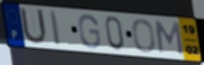0: (105, 16, 126, 52)
G: (77, 13, 102, 50)
I: (49, 10, 63, 48)
M: (153, 20, 185, 57)
O: (131, 18, 157, 54)
U: (18, 6, 49, 47)
